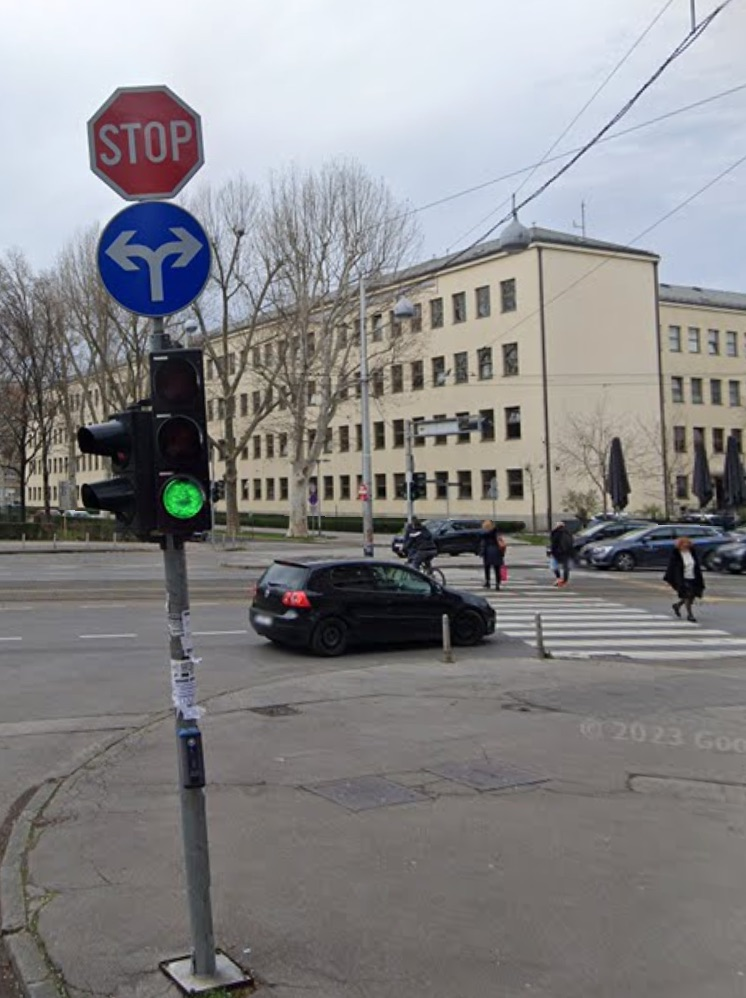Obavezno zaustavljanje: (85, 85, 205, 200)
